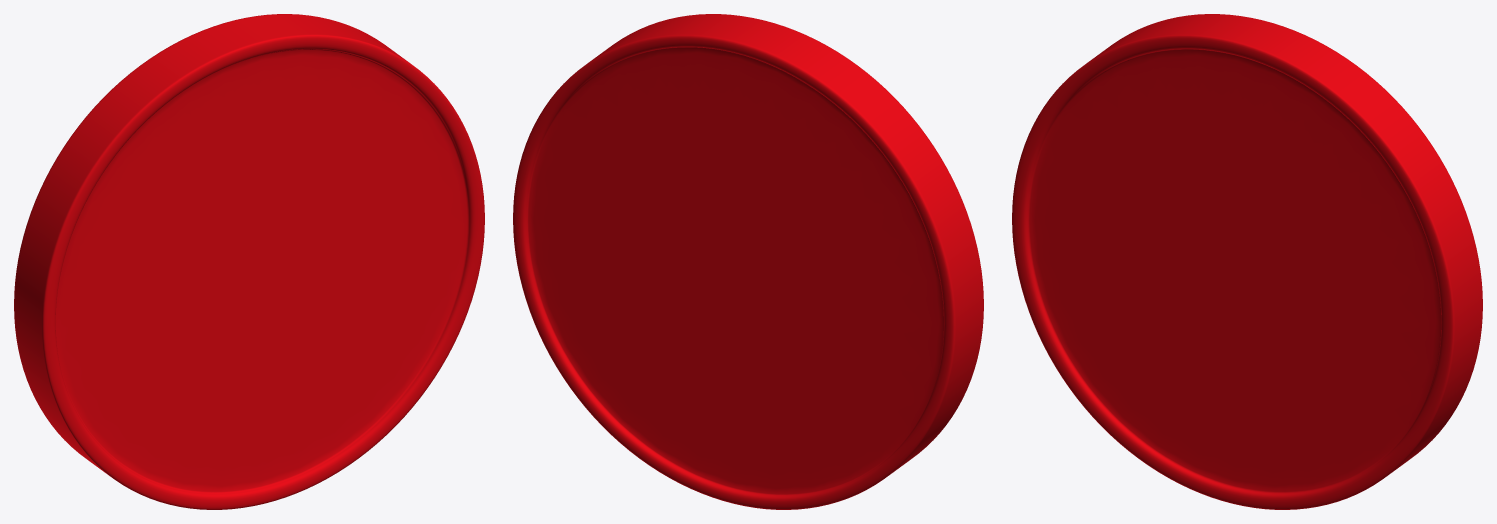
Rendered from RedStone.fbx.
The picture shows the model from 3 angles, left to right: view 1: azimuth 30°, elevation 25°; view 2: azimuth 150°, elevation 25°; view 3: azimuth 330°, elevation 25°; orthographic projection.
Visible parts, largest first — view 1: RedStone; view 2: RedStone; view 3: RedStone.
Boxes of the visible parts, x1=… form: RedStone: x1=14, y1=14, x2=484, y2=509; RedStone: x1=513, y1=14, x2=983, y2=509; RedStone: x1=1012, y1=14, x2=1482, y2=509.
Size of the model in its own units: 0.0475 by 0.0475 by 0.00573.
